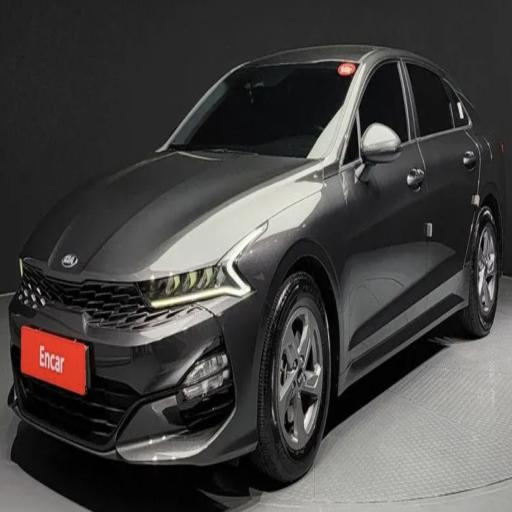normal: (28, 10, 498, 474)
